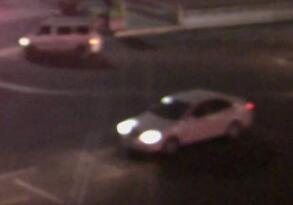car: (114, 90, 255, 159), (20, 14, 103, 63)
